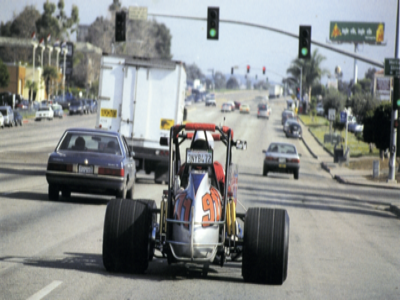licence: (188, 149, 214, 165)
